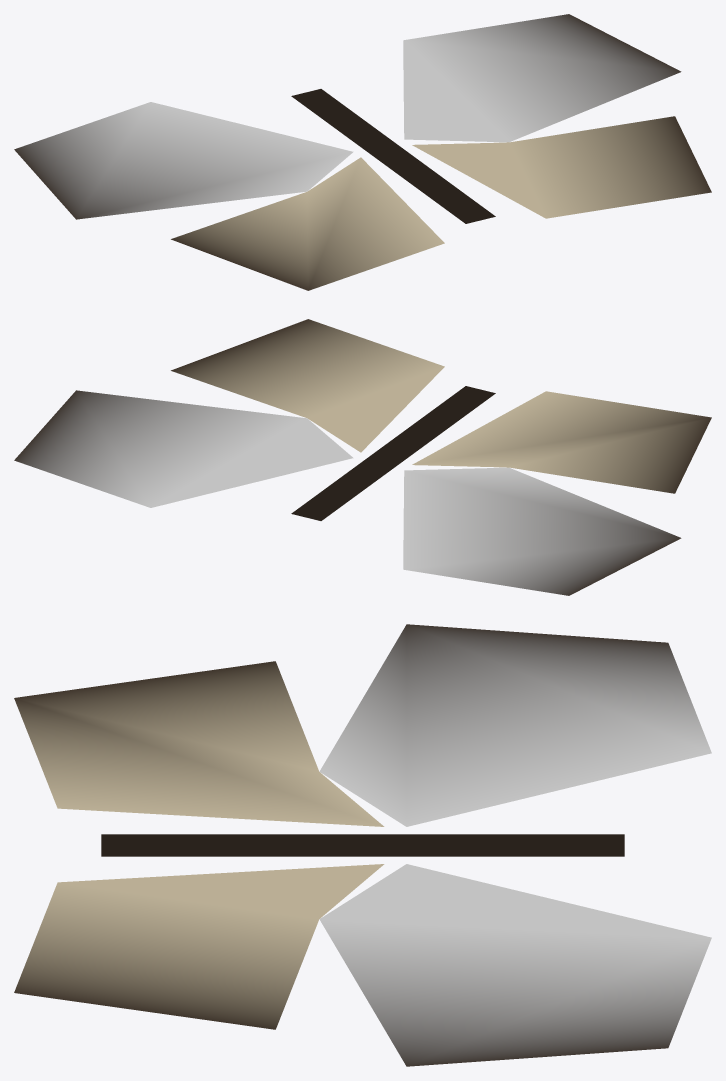
Rendered from butterfly.glb.
The picture shows the model from 3 angles, top to bottom: view 1: azimuth 30°, elevation 25°; view 2: azimuth 150°, elevation 25°; view 3: azimuth 270°, elevation 25°; orthographic projection. The views are drawn at different scales.
Parts seen in each view (by area): view 1: butterfly; view 2: butterfly; view 3: butterfly.
Boxes of the visible parts, <box> form: butterfly: <box>14,14,711,290</box>; butterfly: <box>14,319,711,595</box>; butterfly: <box>14,624,711,1066</box>.
Size of the model in its own units: 0.24 by 0 by 0.16.
